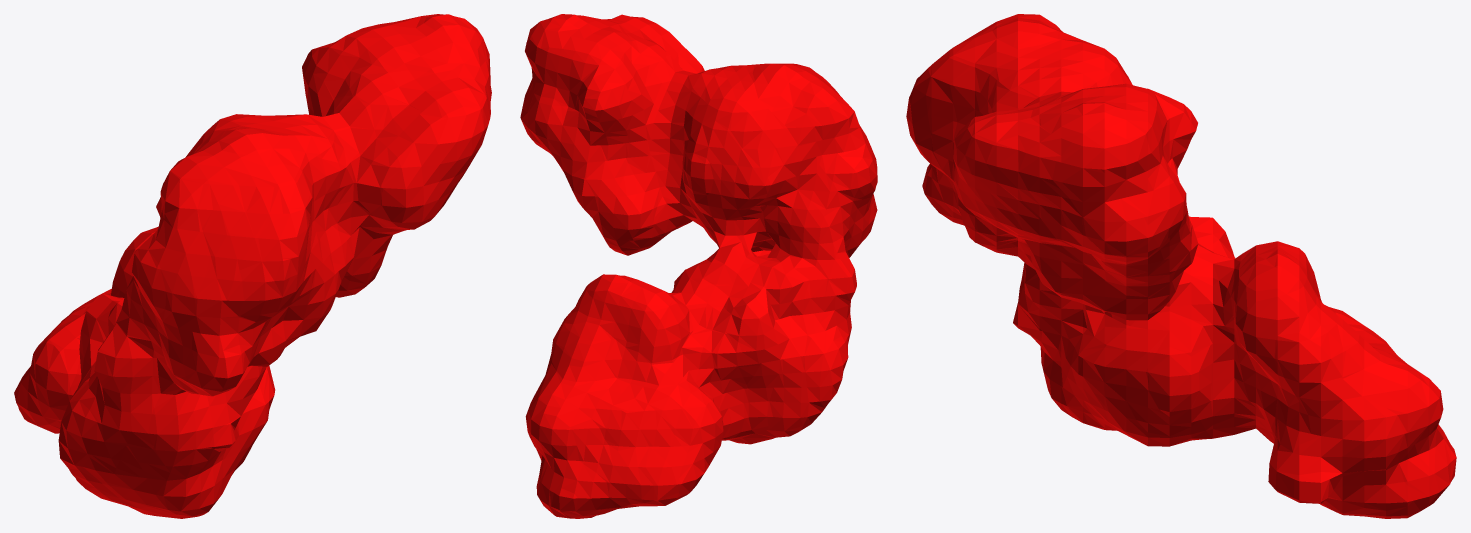
Rendered from Endoplasmic_reticulum_protein__coarse.dae.
3 views of the same model, side by side, from view 1: azimuth 30°, elevation 25°; view 2: azimuth 150°, elevation 25°; view 3: azimuth 270°, elevation 25° (orthographic). The views are drawn at different scales.
Visible parts, largest first — view 1: Endoplasmic_reticulum_protein_; view 2: Endoplasmic_reticulum_protein_; view 3: Endoplasmic_reticulum_protein_.
Boxes of the visible parts, <box> form: Endoplasmic_reticulum_protein_: <box>14,14,491,518</box>; Endoplasmic_reticulum_protein_: <box>520,14,877,518</box>; Endoplasmic_reticulum_protein_: <box>906,14,1456,518</box>.
Bounding box in the file's own units: 72.07 × 80.52 × 82.91.
